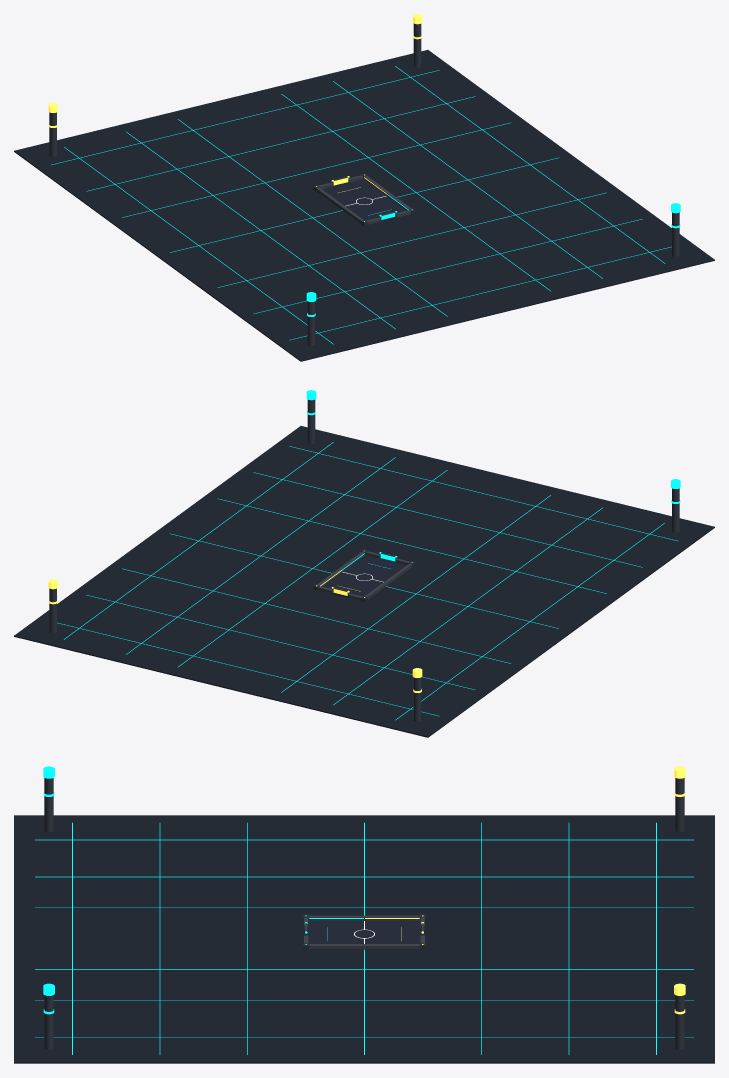
File: mesa_arcade.glb
3 views of the same model, one above another, from view 1: azimuth 30°, elevation 25°; view 2: azimuth 150°, elevation 25°; view 3: azimuth 270°, elevation 25° (orthographic). The views are drawn at different scales.
Visible parts, largest first — view 1: ArenaStadiumFloor, TablePlaySurface; view 2: ArenaStadiumFloor, TablePlaySurface; view 3: ArenaStadiumFloor, TablePlaySurface, Cube.024, Cube.023, RailRight, Cube.026, Cube.025, Cube.028, Cube.027, RailLeft, Cylinder.017, Cylinder.023 (+2 smaller).
Part boxes in pixels (x1,y1,x2,y2): ArenaStadiumFloor: [14, 50, 714, 361]; TablePlaySurface: [322, 179, 406, 221]; ArenaStadiumFloor: [14, 426, 714, 737]; TablePlaySurface: [322, 555, 406, 597]; ArenaStadiumFloor: [14, 815, 714, 1063]; TablePlaySurface: [308, 921, 420, 949]; Cube.024: [35, 876, 693, 877]; Cube.023: [35, 839, 693, 840]; RailRight: [309, 944, 419, 949]; Cube.026: [35, 969, 693, 969]; Cube.025: [35, 907, 693, 907]; Cube.028: [35, 1037, 693, 1037]; Cube.027: [35, 1000, 693, 1000]; RailLeft: [309, 915, 419, 920]; Cylinder.017: [44, 995, 53, 1049]; Cylinder.023: [675, 995, 684, 1049].
Size of the model in its own units: 10 by 1.18 by 12.
